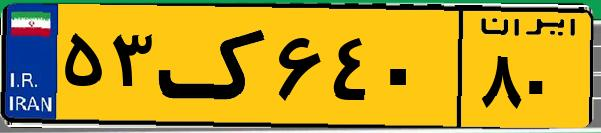0: (385, 28, 445, 110), (525, 38, 570, 115)
3: (110, 28, 158, 98)
4: (330, 28, 385, 110)
5: (57, 26, 110, 100)
6: (270, 28, 330, 110)
8: (475, 38, 525, 113)
ک: (158, 12, 270, 120)
